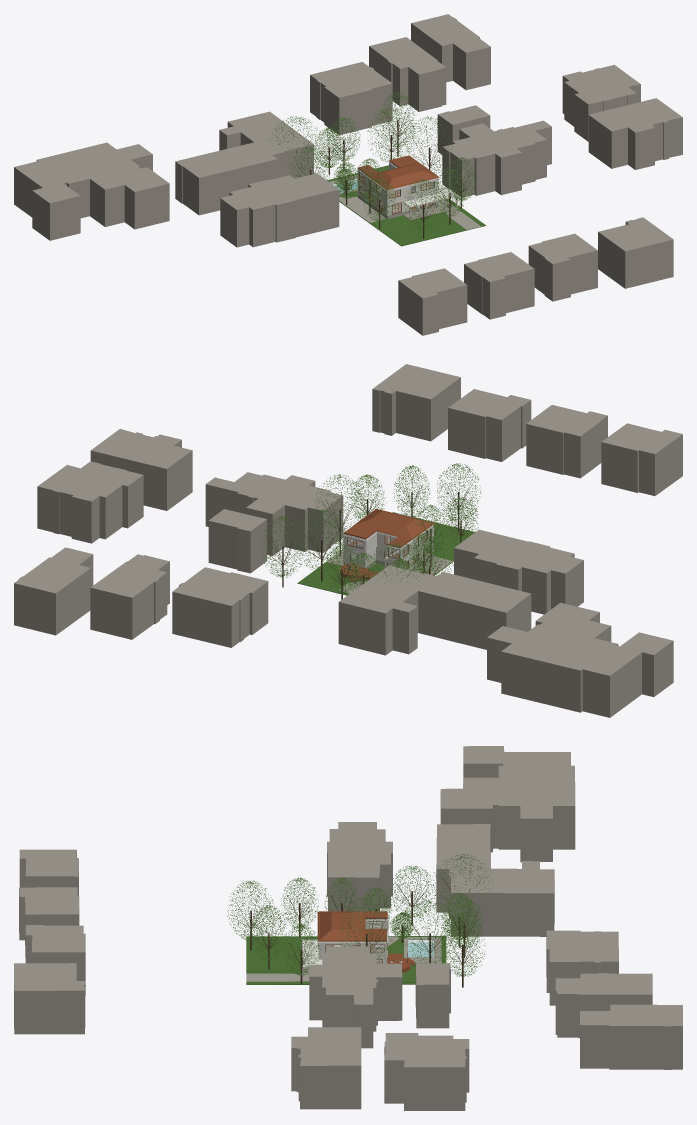
File: house.glb
3 views of the same model, one above another, from view 1: azimuth 30°, elevation 25°; view 2: azimuth 150°, elevation 25°; view 3: azimuth 270°, elevation 25° (orthographic). The views are drawn at different scales.
Parts seen in each view (by area): view 1: Neighbor 1392, Neighbor 1423, Neighbor 1428, Neighbor 1470, Neighbor 1502, Neighbor 1426, Neighbor 1524, Neighbor 1431, Neighbor 1437, Neighbor 1493, Neighbor 1477, Neighbor 1501 (+17 smaller); view 2: Neighbor 1392, Neighbor 1423, Neighbor 1470, Neighbor 1487, Neighbor 1428, Neighbor 1426, Neighbor 1437, Neighbor 1431, Neighbor 1524, Neighbor 1502, Neighbor 1501, Neighbor 1477 (+20 smaller); view 3: Neighbor 1392, Neighbor 1423, Neighbor 1470, Neighbor 1437, Neighbor 1487, Neighbor 1502, Neighbor 1428, Neighbor 1524, Neighbor 1431, Neighbor 1426, Neighbor 1501, Neighbor 1493 (+18 smaller).
Boxes of the visible parts, <box> form: Neighbor 1392: <box>14,142,169,240</box>; Neighbor 1423: <box>175,111,313,215</box>; Neighbor 1428: <box>220,173,339,247</box>; Neighbor 1470: <box>442,120,551,197</box>; Neighbor 1502: <box>588,98,682,169</box>; Neighbor 1426: <box>310,62,392,135</box>; Neighbor 1524: <box>598,217,673,288</box>; Neighbor 1431: <box>369,37,446,111</box>; Neighbor 1437: <box>411,14,490,90</box>; Neighbor 1493: <box>464,252,534,319</box>; Neighbor 1477: <box>398,268,467,335</box>; Neighbor 1501: <box>528,233,597,301</box>; Neighbor 1392: <box>487,602,673,717</box>; Neighbor 1423: <box>338,565,531,655</box>; Neighbor 1470: <box>205,472,343,555</box>; Neighbor 1487: <box>37,461,143,543</box>; Neighbor 1428: <box>454,529,583,614</box>; Neighbor 1426: <box>172,567,268,647</box>; Neighbor 1437: <box>14,547,93,635</box>; Neighbor 1431: <box>90,554,169,639</box>; Neighbor 1524: <box>372,364,460,441</box>; Neighbor 1502: <box>90,429,192,510</box>; Neighbor 1501: <box>448,389,531,461</box>; Neighbor 1477: <box>601,423,682,495</box>; Neighbor 1392: <box>440,746,575,862</box>; Neighbor 1423: <box>436,824,554,936</box>; Neighbor 1470: <box>309,946,402,1048</box>; Neighbor 1437: <box>580,1004,682,1069</box>; Neighbor 1487: <box>384,1033,469,1110</box>; Neighbor 1502: <box>291,1027,361,1109</box>; Neighbor 1428: <box>327,822,392,911</box>; Neighbor 1524: <box>14,963,85,1034</box>; Neighbor 1431: <box>555,973,652,1038</box>; Neighbor 1426: <box>546,930,618,1005</box>; Neighbor 1501: <box>25,925,85,995</box>; Neighbor 1493: <box>19,887,79,957</box>.
Size of what is drawn, in the model's own units: 142 by 17.79 by 125.
35 materials, 6 textured.
